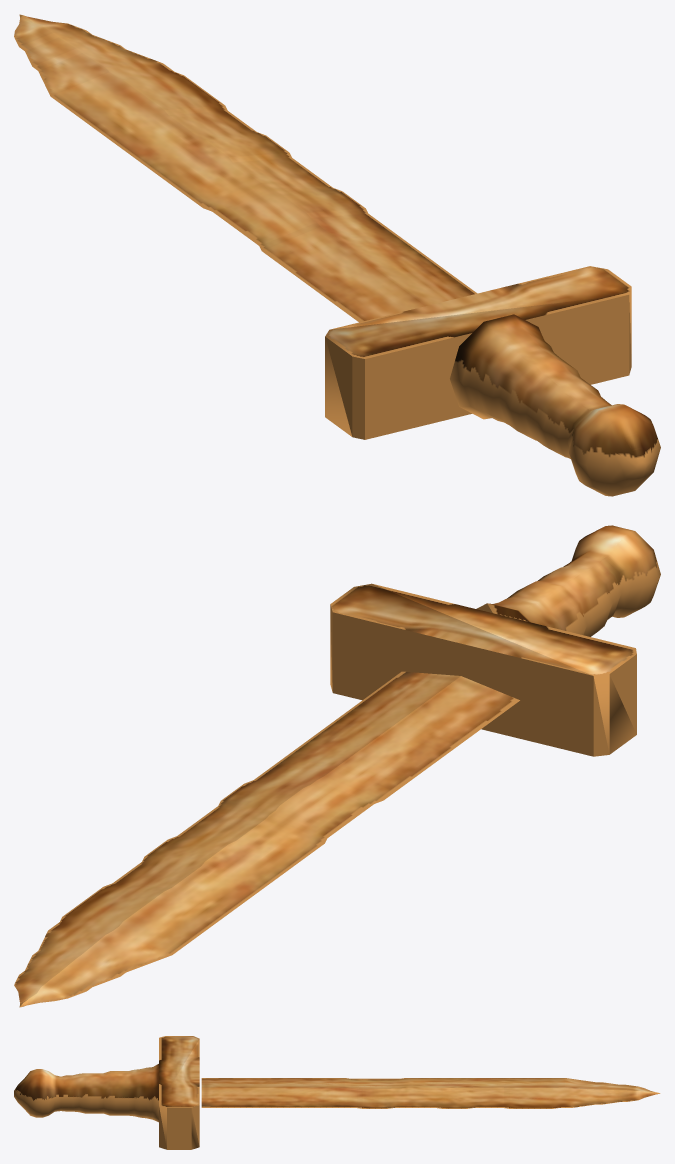
Rendered from item_mm9_10362.glb.
3 views of the same model, one above another, from view 1: azimuth 30°, elevation 25°; view 2: azimuth 150°, elevation 25°; view 3: azimuth 270°, elevation 25° (orthographic). The views are drawn at different scales.
Parts seen in each view (by area): view 1: d10362; view 2: d10362; view 3: d10362.
Boxes of the visible parts, x1,y1,x2,y2 form: d10362: (14, 14, 660, 496); d10362: (14, 525, 660, 1007); d10362: (14, 1036, 660, 1149).
Size of the model in its own units: 37.23 by 12.37 by 142.
Materials: 1 (1 with a texture image).
